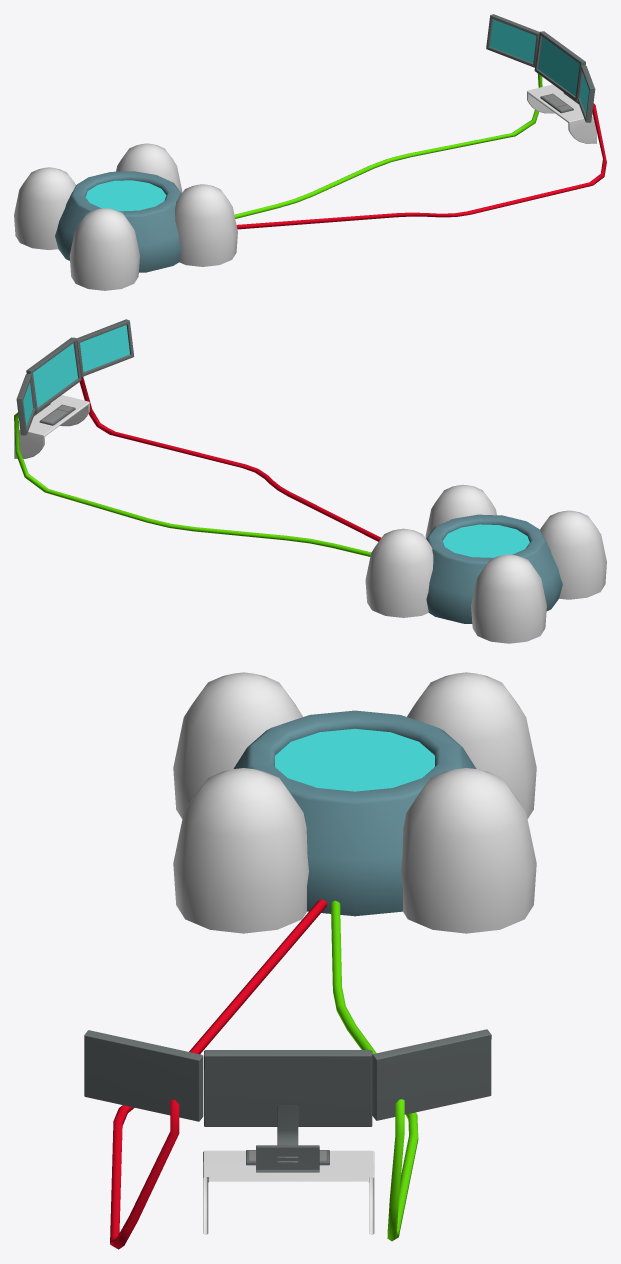
Rendered from Machine_for_health.fbx.
The picture shows the model from 3 angles, top to bottom: view 1: azimuth 30°, elevation 25°; view 2: azimuth 150°, elevation 25°; view 3: azimuth 270°, elevation 25°; orthographic projection. The views are drawn at different scales.
Parts seen in each view (by area): view 1: Base, Rope1, Bigscreen, Smallscreen, Table, Rope2, Smallscreen1; view 2: Base, Bigscreen, Rope2, Smallscreen1, Table, Rope1, Smallscreen; view 3: Base, Bigscreen, Smallscreen, Smallscreen1, Rope1, Table, Rope2.
Boxes of the visible parts, x1,y1,x2,y2 form: Base: [14, 143, 237, 290]; Rope1: [236, 103, 606, 229]; Bigscreen: [534, 31, 585, 104]; Smallscreen: [486, 14, 539, 67]; Table: [527, 84, 596, 143]; Rope2: [234, 73, 542, 218]; Smallscreen1: [577, 65, 595, 122]; Base: [365, 484, 606, 643]; Bigscreen: [26, 337, 81, 415]; Rope2: [14, 412, 371, 556]; Smallscreen1: [76, 319, 134, 376]; Table: [14, 395, 89, 458]; Rope1: [79, 377, 381, 541]; Smallscreen: [16, 373, 36, 435]; Base: [173, 672, 536, 933]; Bigscreen: [204, 1050, 372, 1172]; Smallscreen: [372, 1029, 491, 1120]; Smallscreen1: [84, 1030, 203, 1121]; Rope1: [110, 899, 326, 1249]; Table: [203, 1150, 374, 1234]; Rope2: [331, 900, 418, 1241].
Bounding box in the file's own units: 18.53 × 3.74 × 7.09.
